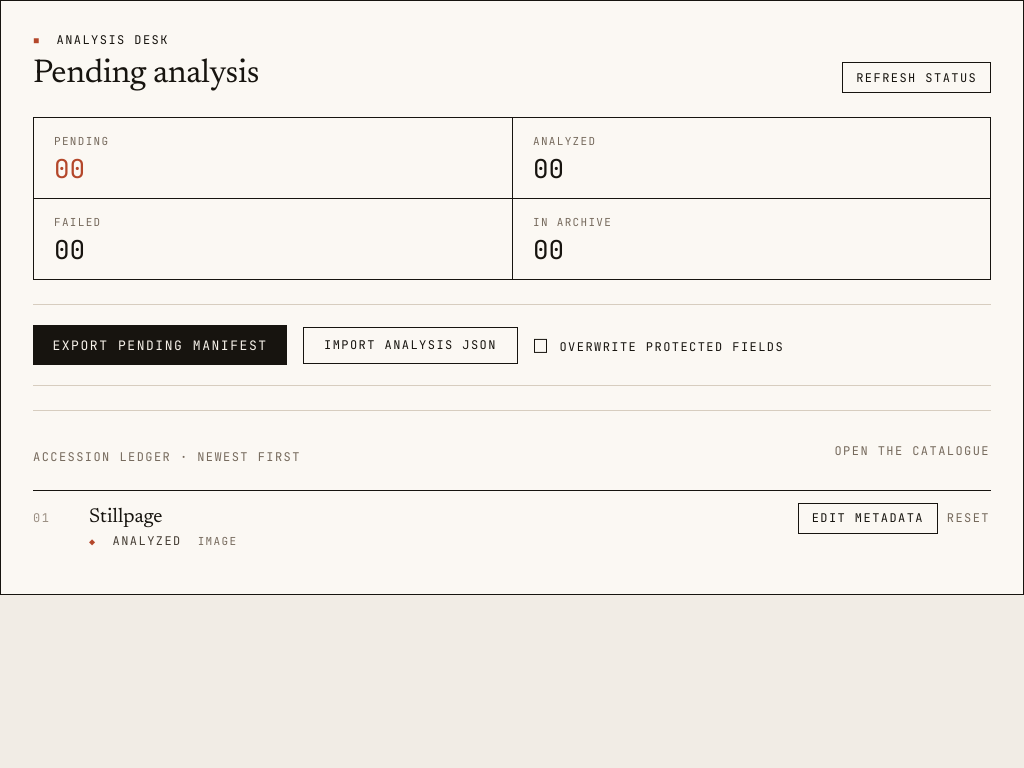
Scenario: resetting an analysis › reports a reset the API refused
The width and height of the screenshot is (1024, 768).
Expected: the link "Stillpage" is shown, [89,507,163,527]
Click the button "Reset" at (968, 518), box [946,503,991,534]
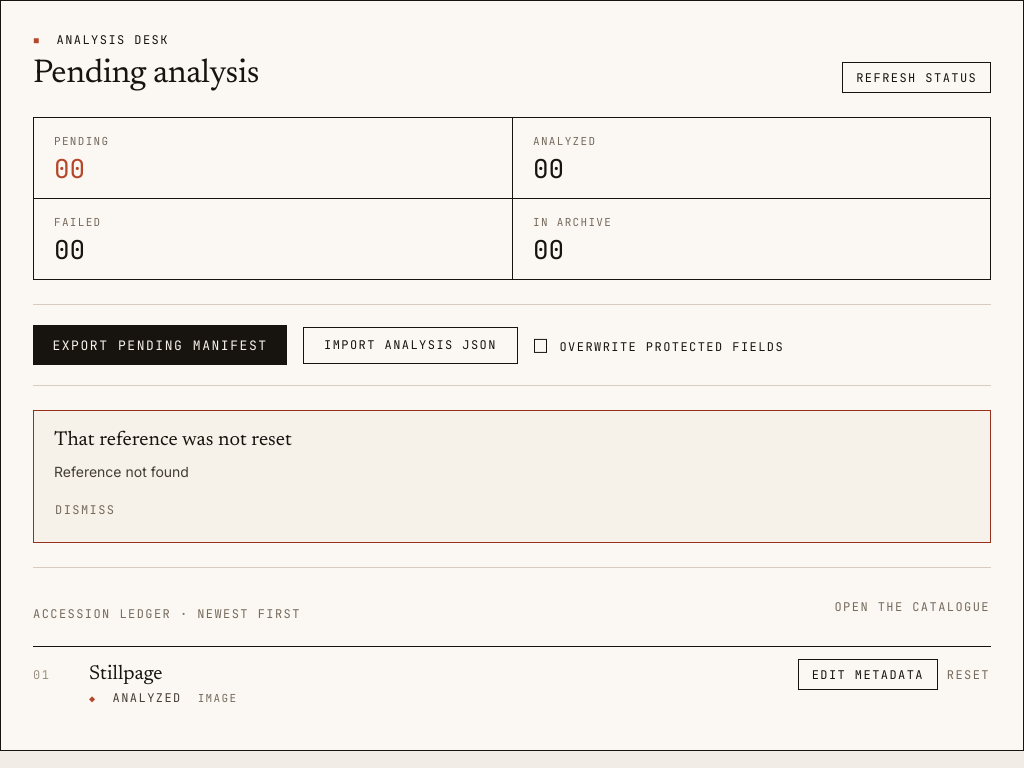
Expected: the message shows "Reference not found", [54,463,189,480]
